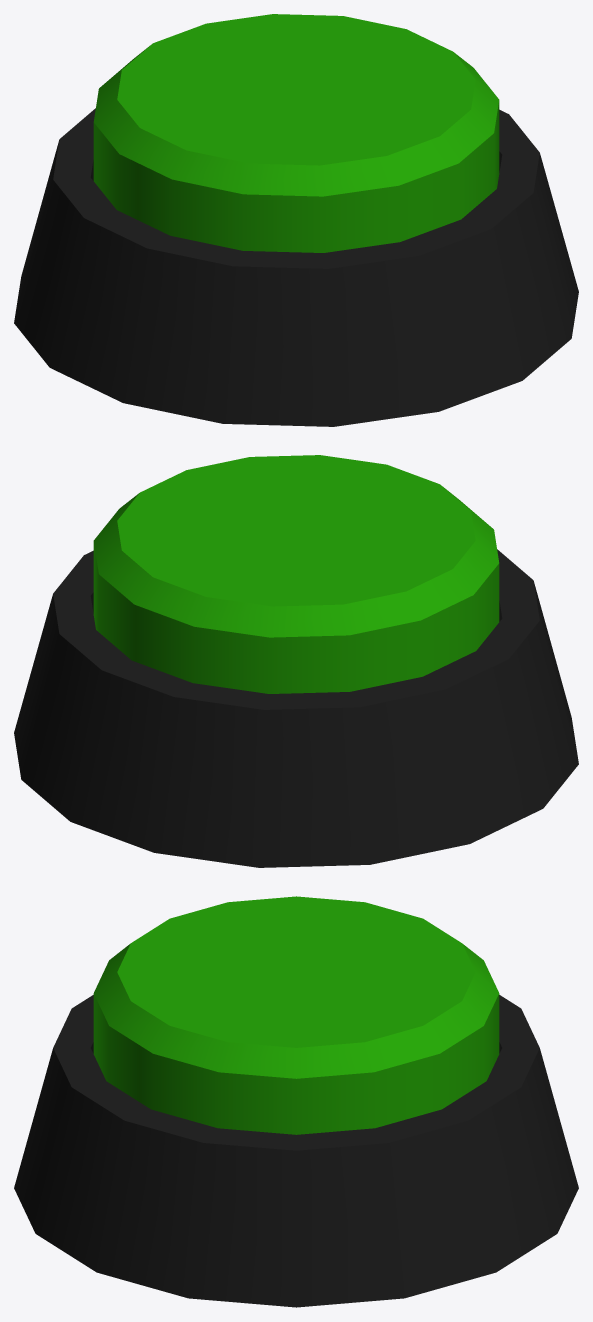
File: ControlTable_Button.fbx
3 views of the same model, one above another, from view 1: azimuth 30°, elevation 25°; view 2: azimuth 150°, elevation 25°; view 3: azimuth 270°, elevation 25° (orthographic).
Visible parts, largest first — view 1: ButtonBase, Button; view 2: ButtonBase, Button; view 3: ButtonBase, Button.
Boxes of the visible parts, x1=… form: ButtonBase: x1=14, y1=108, x2=578, y2=426; Button: x1=93, y1=14, x2=499, y2=252; ButtonBase: x1=14, y1=549, x2=578, y2=867; Button: x1=93, y1=455, x2=499, y2=693; ButtonBase: x1=14, y1=995, x2=578, y2=1307; Button: x1=93, y1=896, x2=499, y2=1134.
Bounding box in the file's own units: 0.0818 × 0.0345 × 0.0818.
